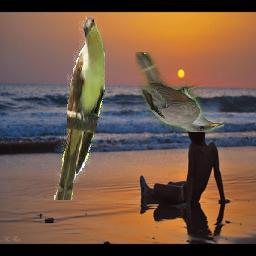Cuckoo: (55, 16, 106, 200), (136, 52, 225, 132)
